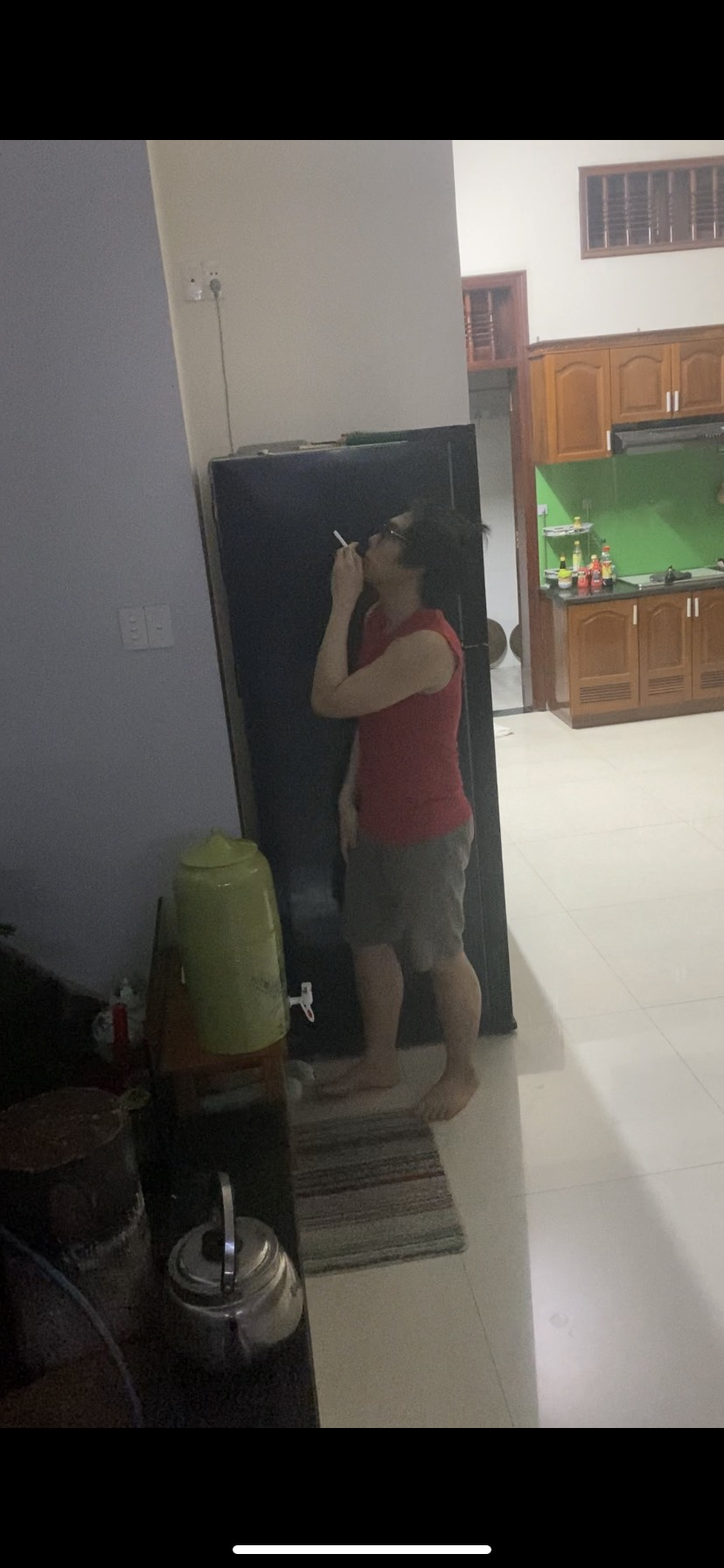cigarette: (329, 527, 349, 549)
person: (317, 486, 496, 1130)
